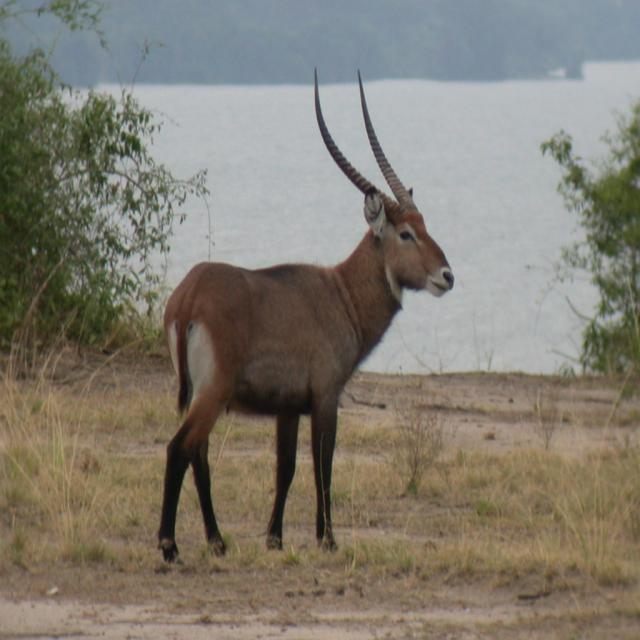Deer: (155, 66, 455, 566)
